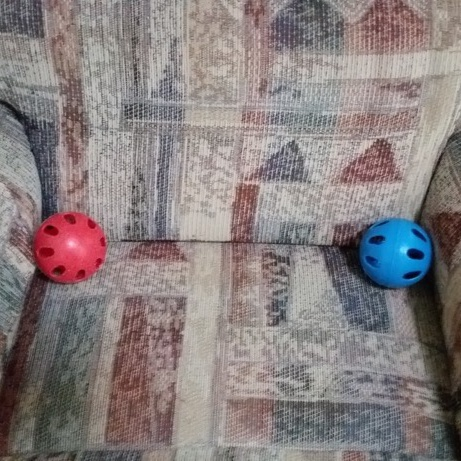blueball: (353, 214, 438, 291)
redball: (29, 206, 111, 286)
